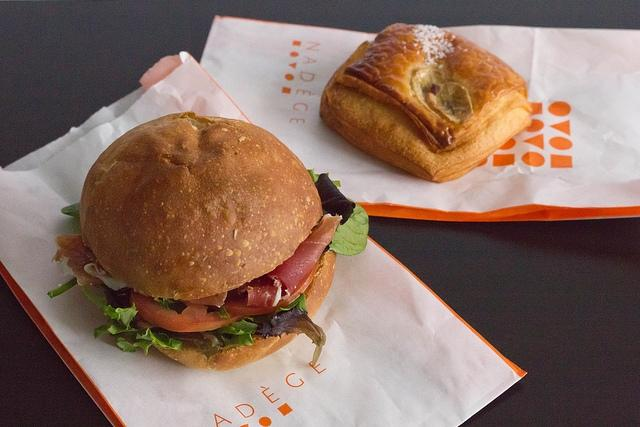lettuce: (256, 306, 326, 368), (329, 198, 369, 255), (116, 326, 182, 356), (212, 319, 258, 347), (104, 301, 138, 330), (106, 317, 142, 337), (276, 292, 306, 312), (61, 202, 80, 219), (306, 168, 320, 184)
tomato: (223, 259, 318, 316), (129, 288, 246, 332)
